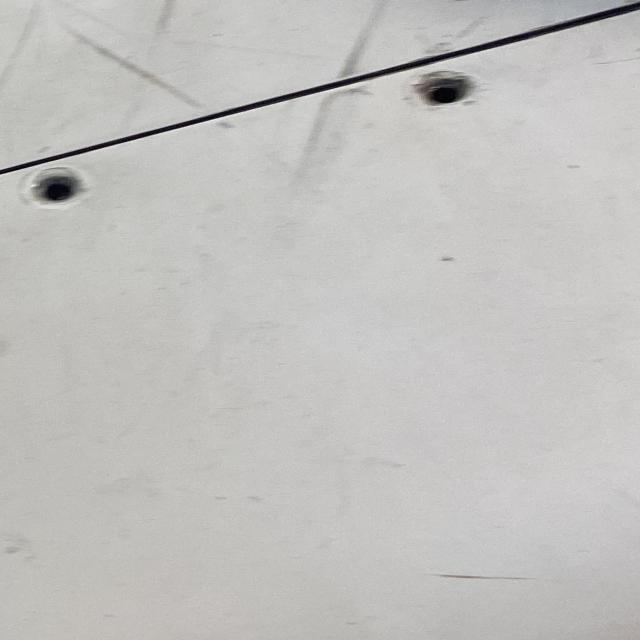Missing-head: (23, 166, 89, 208), (415, 70, 477, 106)
